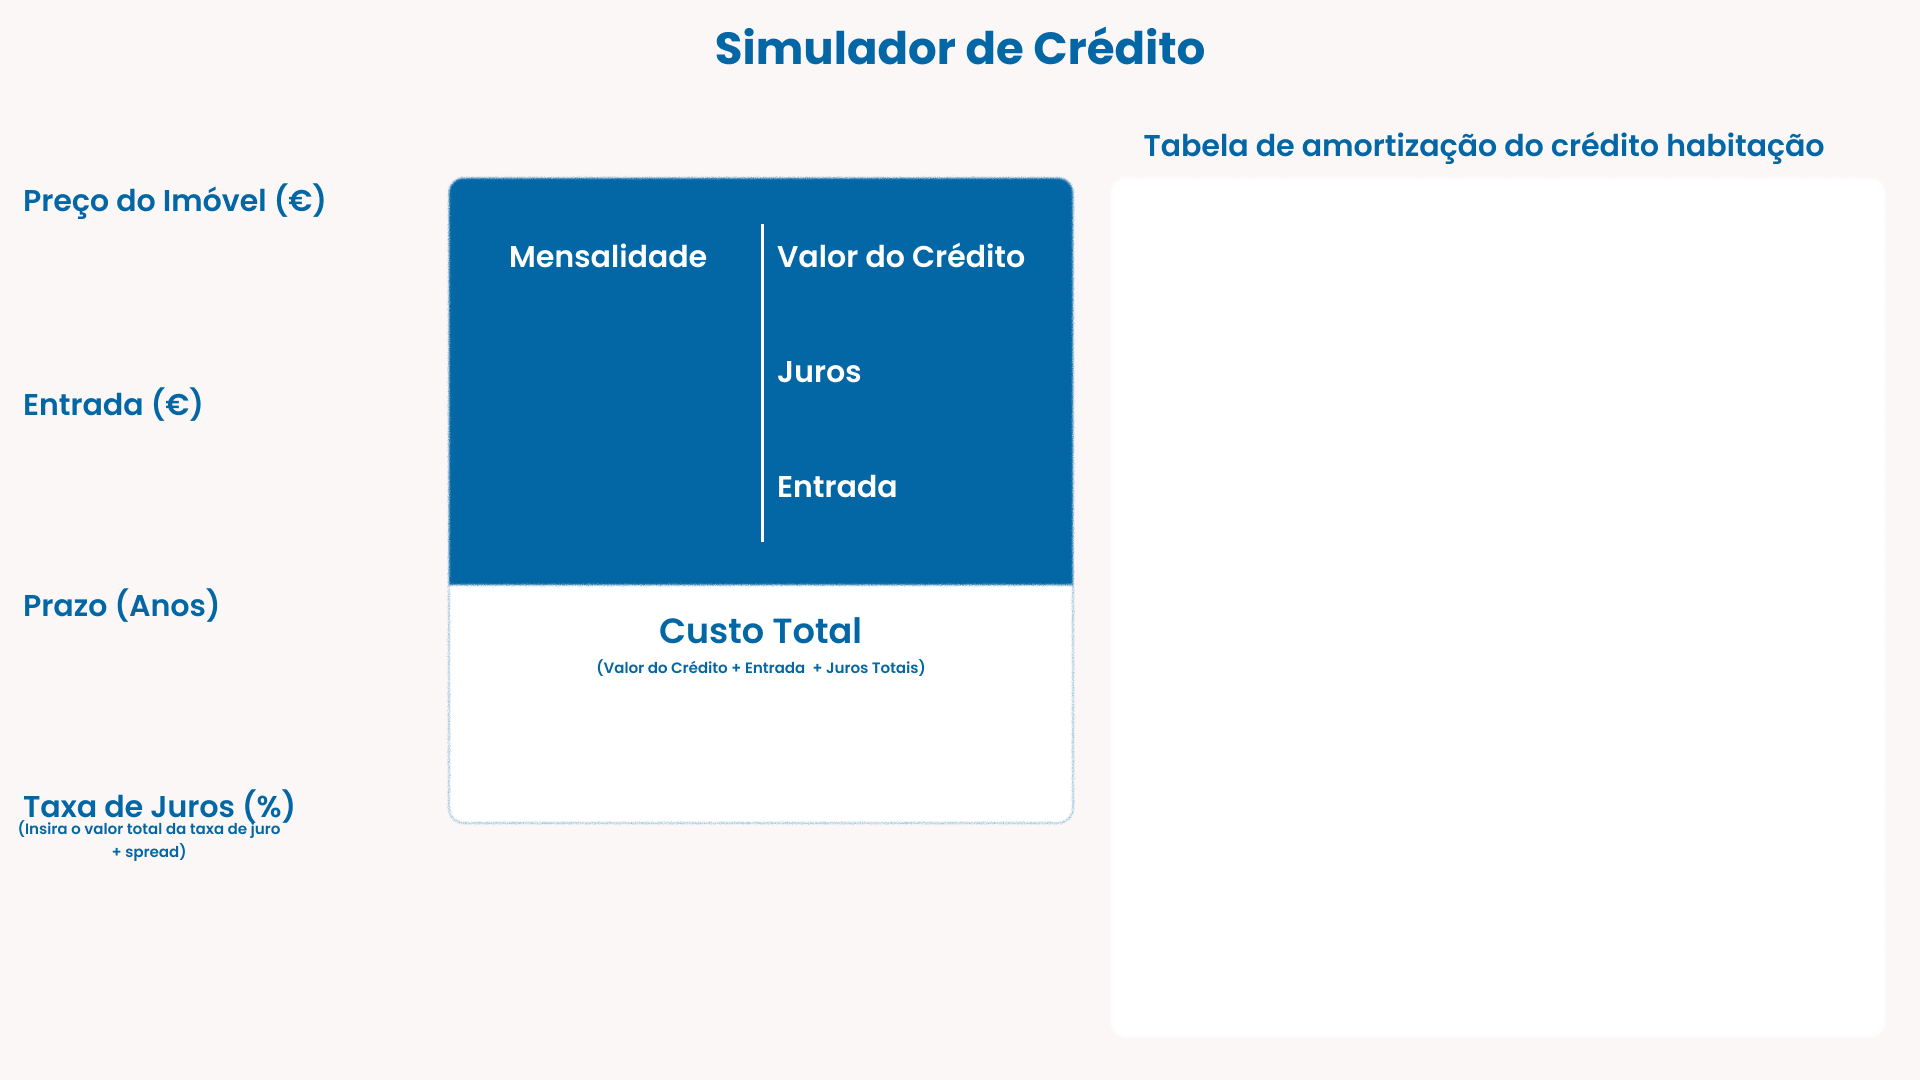

The page's visual inventory and layout, read from the dashboard file:
{"tool":"powerbi","page":{"name":"Página 1","canvas":[1280,720],"ordinal":0},"visuals":[{"type":"slicer","title":"Preço do imóvel","fields":{"Values":["Crédito 2.Crédito"]},"box":[7.4,157.6,230.1,79.9],"z":2000},{"type":"slicer","title":"Entrada Inicial","fields":{"Values":["Parâmetro.Parâmetro"]},"box":[7.4,285.8,230.1,79.9],"z":3000},{"type":"slicer","title":"Prazo em Anos","fields":{"Values":["Parâmetro 2.Parâmetro"]},"box":[7.4,429.8,230.1,79.9],"z":4000},{"type":"slicer","title":"Taxa de Juro (TAN)","fields":{"Values":["Parâmetro 3.Parâmetro"]},"box":[7.4,591.7,230.1,79.9],"z":5000},{"type":"card","fields":{"Values":["Medidas.Total Juros"]},"box":[509.7,263.8,130.3,39.9],"z":7000},{"type":"card","fields":{"Values":["Medidas.Prestacao Mensal"]},"box":[315.1,237.9,187.6,57.5],"z":8000},{"type":"card","fields":{"Values":["Medidas.Custo Total"]},"box":[419.3,461.3,180.8,48.3],"z":9000},{"type":"card","fields":{"Values":["Medidas.Medida"]},"box":[159.8,285.5,70,47.6],"z":11000},{"type":"card","fields":{"Values":["Medidas.Montante Financiado"]},"box":[509.7,185,130.3,39.9],"z":14000},{"type":"card","fields":{"Values":["Entrada Inicial.Valor Inicial Parâmetro"]},"box":[509.7,340.5,130.3,39.9],"z":15000},{"type":"tableEx","fields":{"Values":["Anos.Value","Medidas.Juros Anual","Medidas.Amortizacao Anual","Medidas.Prestacao Anual","Medidas.Saldo_Devedor_Final_Ano"]},"box":[746.1,119.8,510.7,565.4],"z":23000}]}

Visuals, with their boxes in screenshot pixels (x1, y1, x2, y2), scaled from the page's 1280x720 canvas onto the 1920x1080 screenshot:
"Preço do imóvel" slicer: BBox(11, 236, 356, 356)
"Entrada Inicial" slicer: BBox(11, 429, 356, 549)
"Prazo em Anos" slicer: BBox(11, 645, 356, 765)
"Taxa de Juro (TAN)" slicer: BBox(11, 888, 356, 1007)
card - Medidas.Total Juros: BBox(765, 396, 960, 456)
card - Medidas.Prestacao Mensal: BBox(473, 357, 754, 443)
card - Medidas.Custo Total: BBox(629, 692, 900, 764)
card - Medidas.Medida: BBox(240, 428, 345, 500)
card - Medidas.Montante Financiado: BBox(765, 278, 960, 337)
card - Entrada Inicial.Valor Inicial Parâmetro: BBox(765, 511, 960, 571)
tableEx - Anos.Value x Medidas.Juros Anual: BBox(1119, 180, 1885, 1028)
